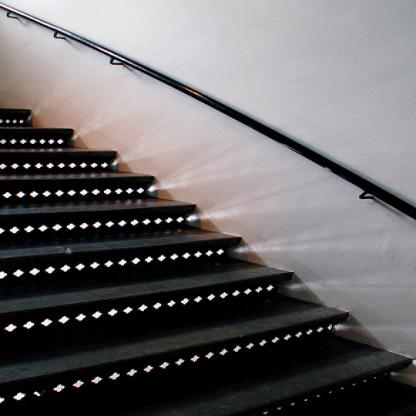stairs: (4, 215, 222, 416)
